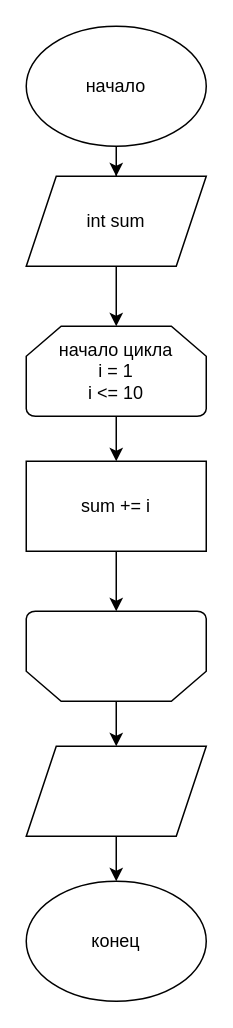
This 233x1028 diagram has some shape labels left out. Here are the shapes that lost their labels. From the top down, the centre of each, then its label:
the point at 115,655: конец цикла i
the point at 115,790: вывод sum
